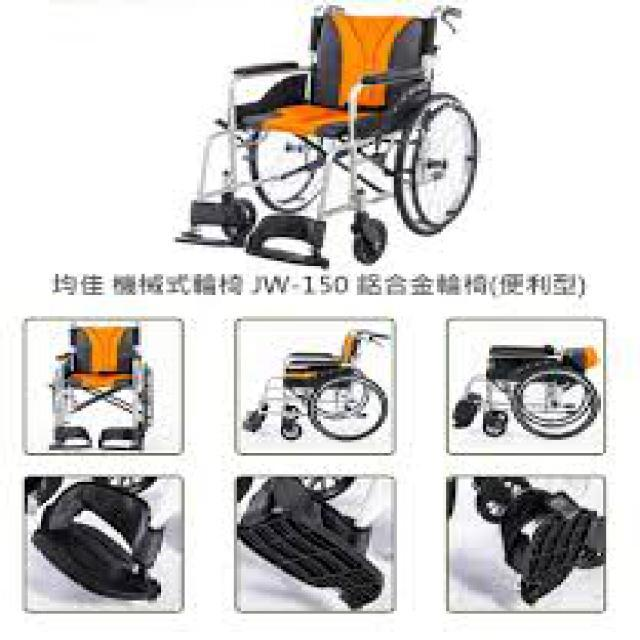wheelchair: (170, 0, 498, 266), (440, 324, 600, 445), (237, 324, 388, 451), (36, 316, 178, 450)
